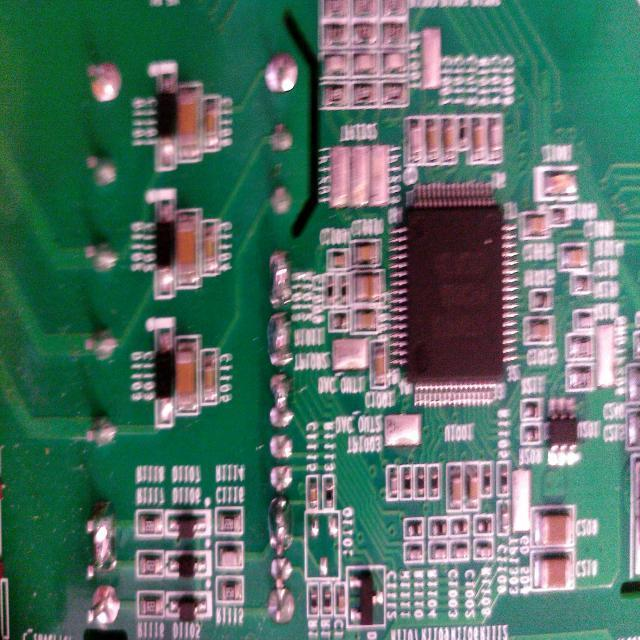Soldering shorted: (80, 498, 120, 582), (264, 312, 298, 370), (266, 247, 296, 310), (266, 492, 294, 559), (266, 368, 295, 432)
